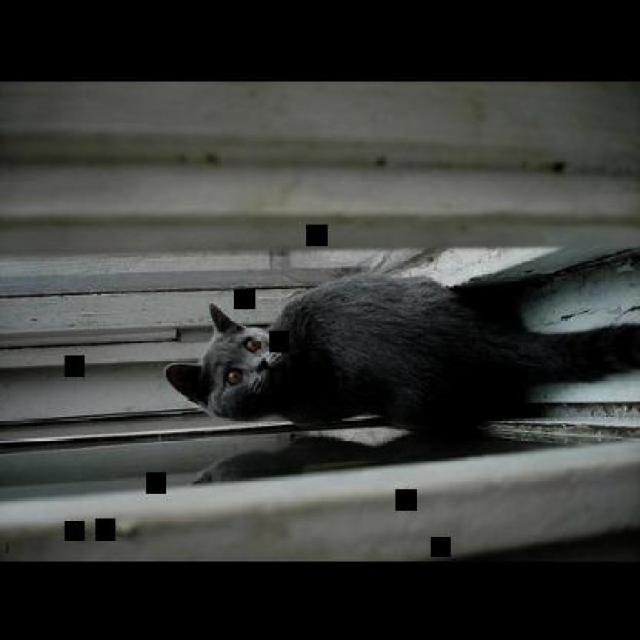unauthorized: (163, 266, 639, 437), (190, 422, 638, 484)
